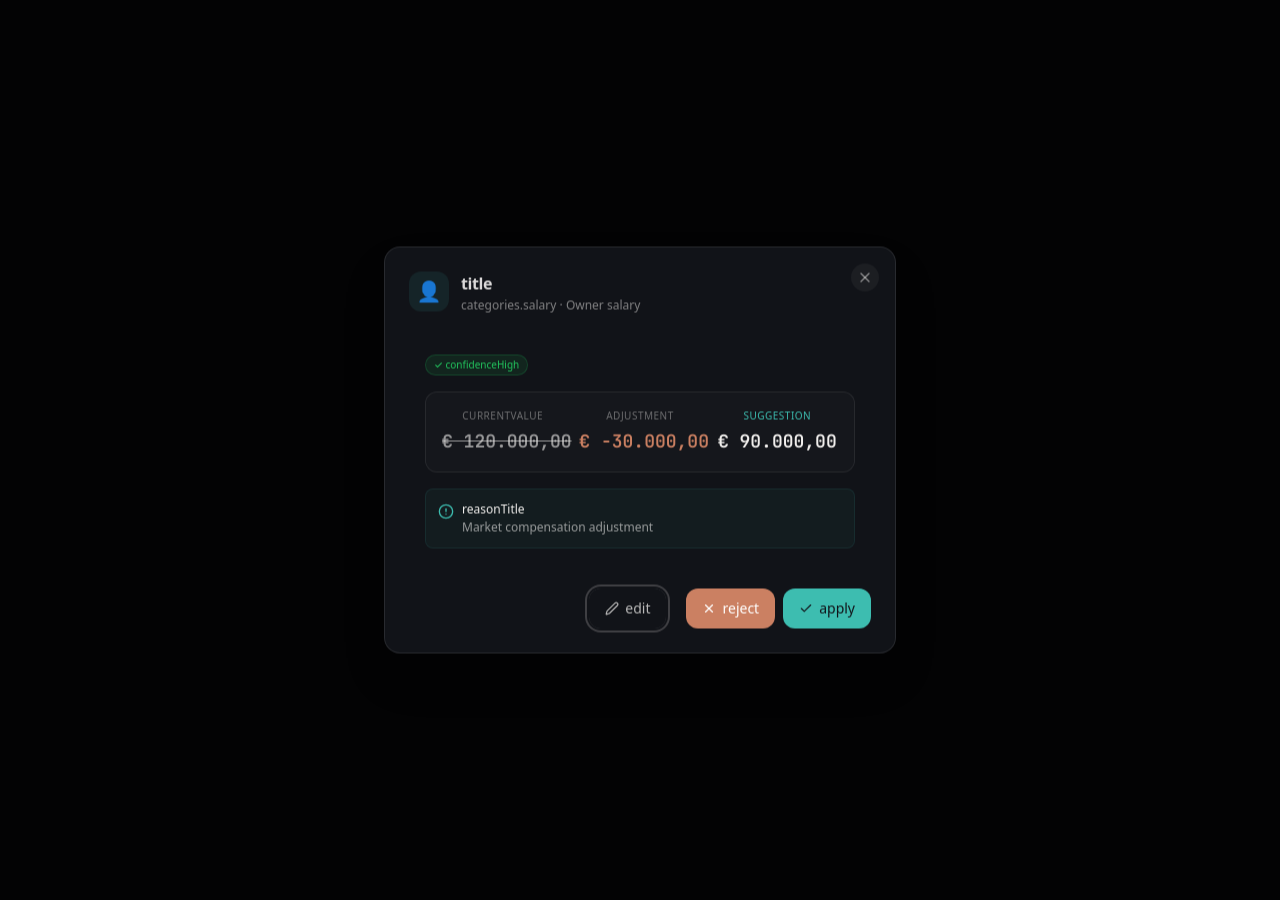
it: NormalisationSuggestionModal › rejects malformed or lossy edits: 12abc
This screenshot has width=1280, height=900.
Click the button "edit" at (628, 608), box x1=589 y1=588 x2=666 y2=628
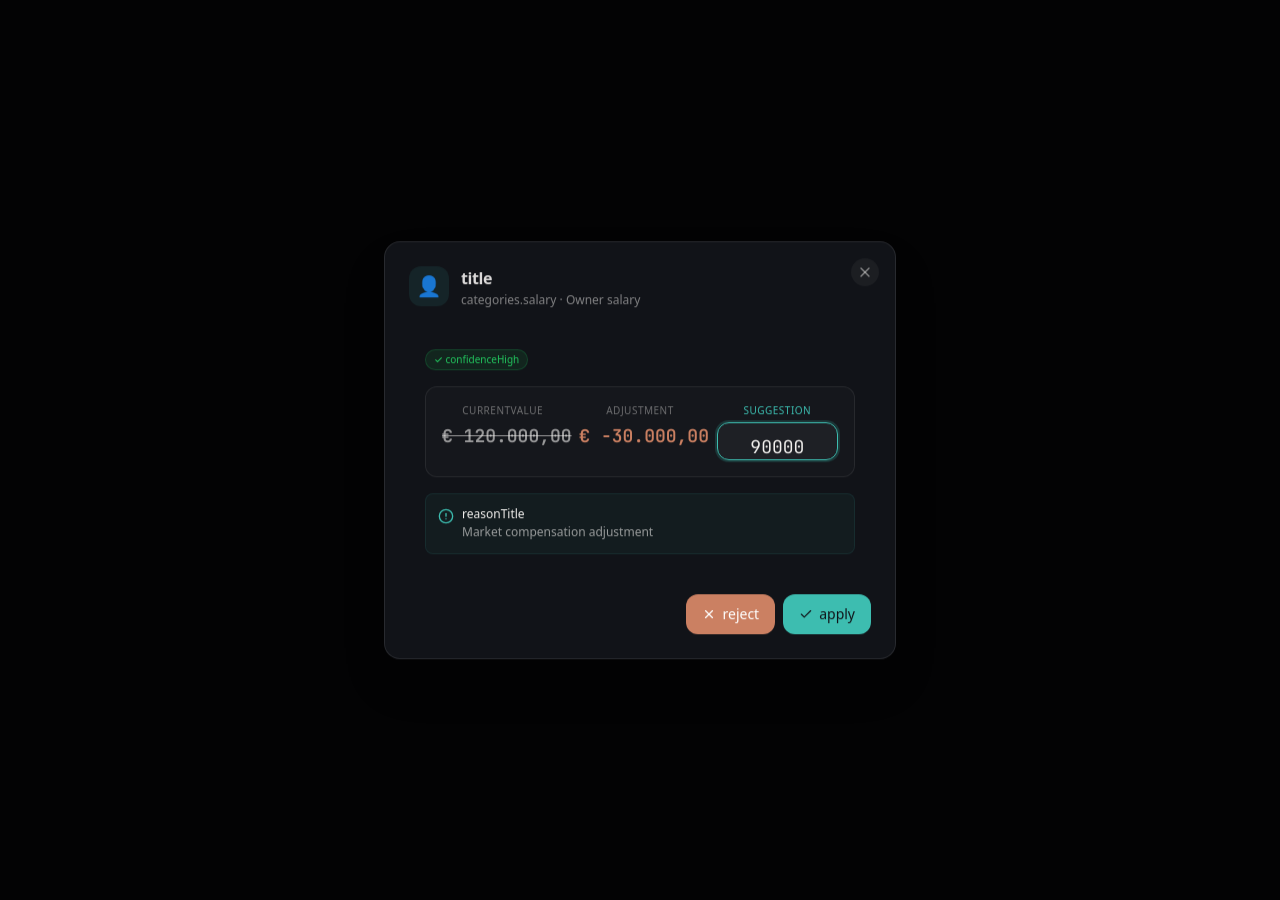
Replace the text in the field with "12abc" at (777, 439), box x1=718 y1=423 x2=837 y2=455
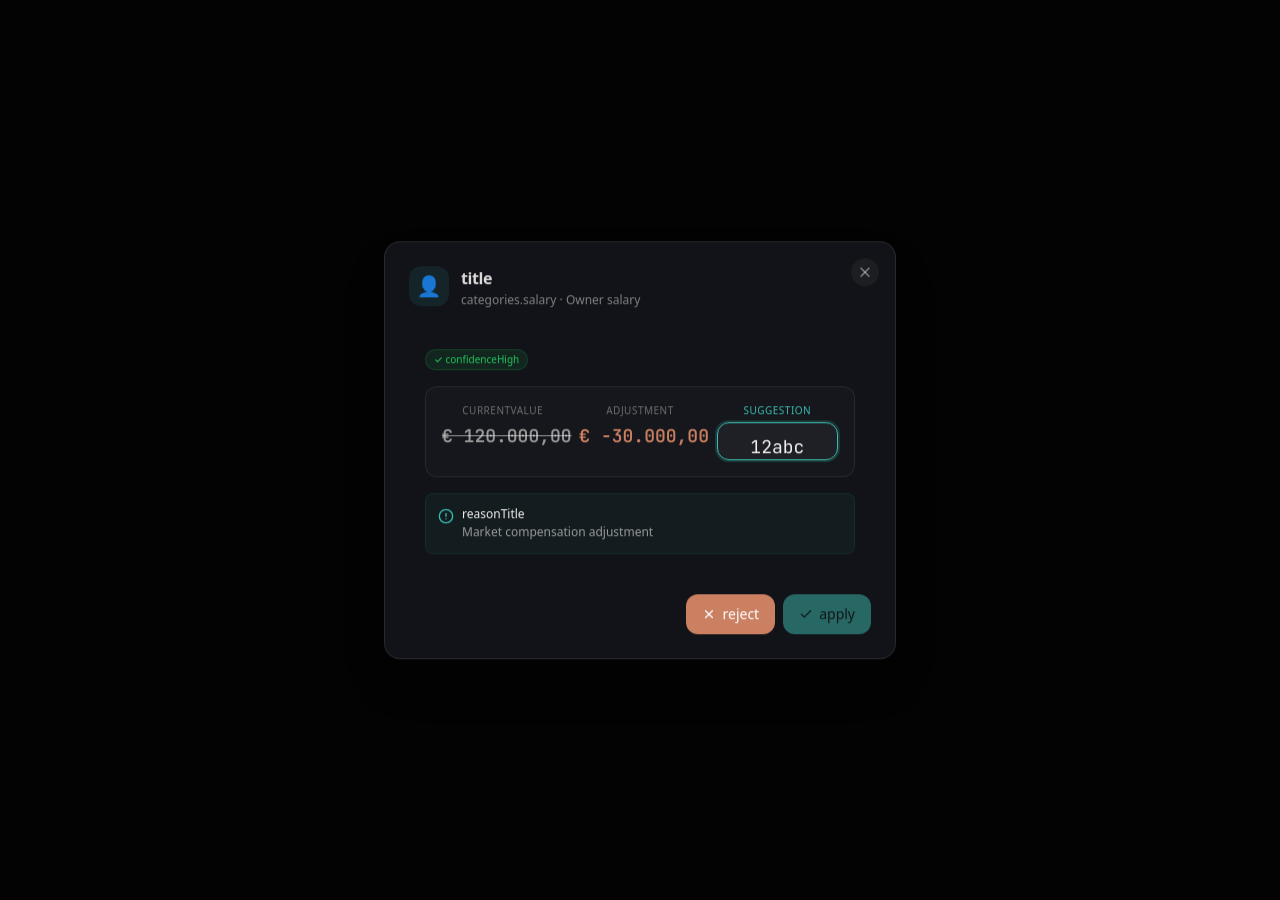
Now the button "apply" is disabled, box x1=783 y1=594 x2=871 y2=634
